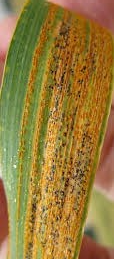Leaf Rust: (12, 46, 108, 259)
